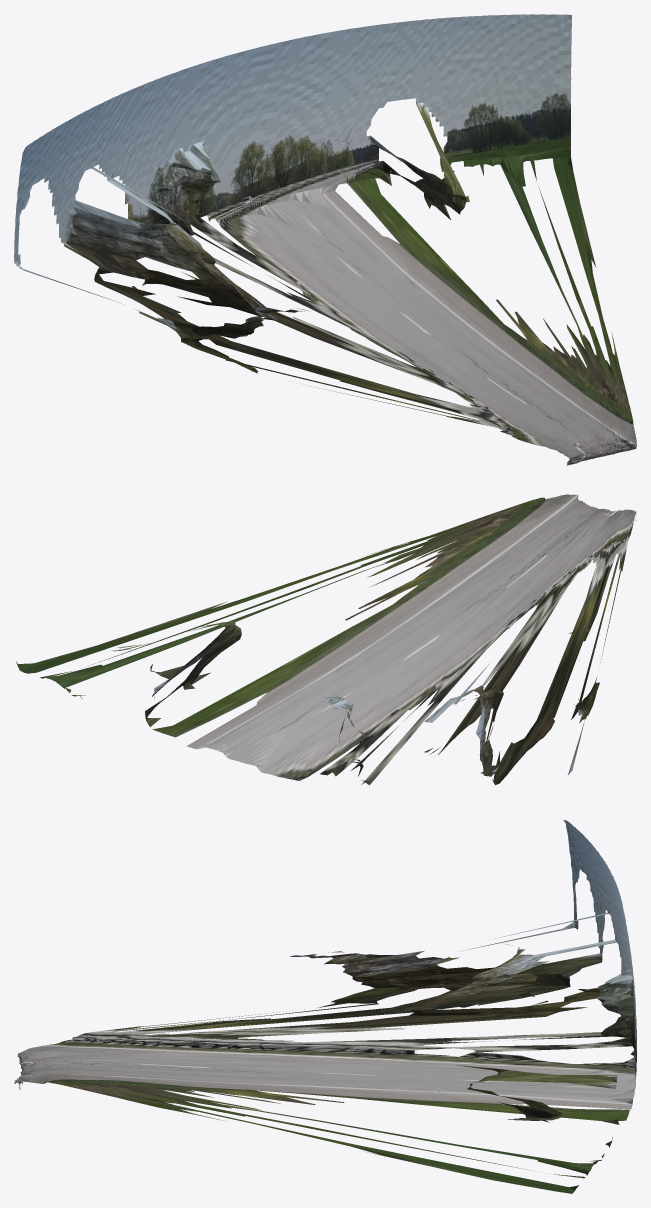
3 views of the same model, one above another, from view 1: azimuth 30°, elevation 25°; view 2: azimuth 150°, elevation 25°; view 3: azimuth 270°, elevation 25° (orthographic). The views are drawn at different scales.
Visible parts, largest first — view 1: defaultobject; view 2: defaultobject; view 3: defaultobject.
Part boxes in pixels (box(x1,y1,x2,y2)): defaultobject: box(14, 14, 636, 465); defaultobject: box(16, 494, 636, 785); defaultobject: box(14, 820, 636, 1193).
Bounding box in the file's own units: 41.16 × 12.32 × 44.56.
Materials: 1 (1 with a texture image).
